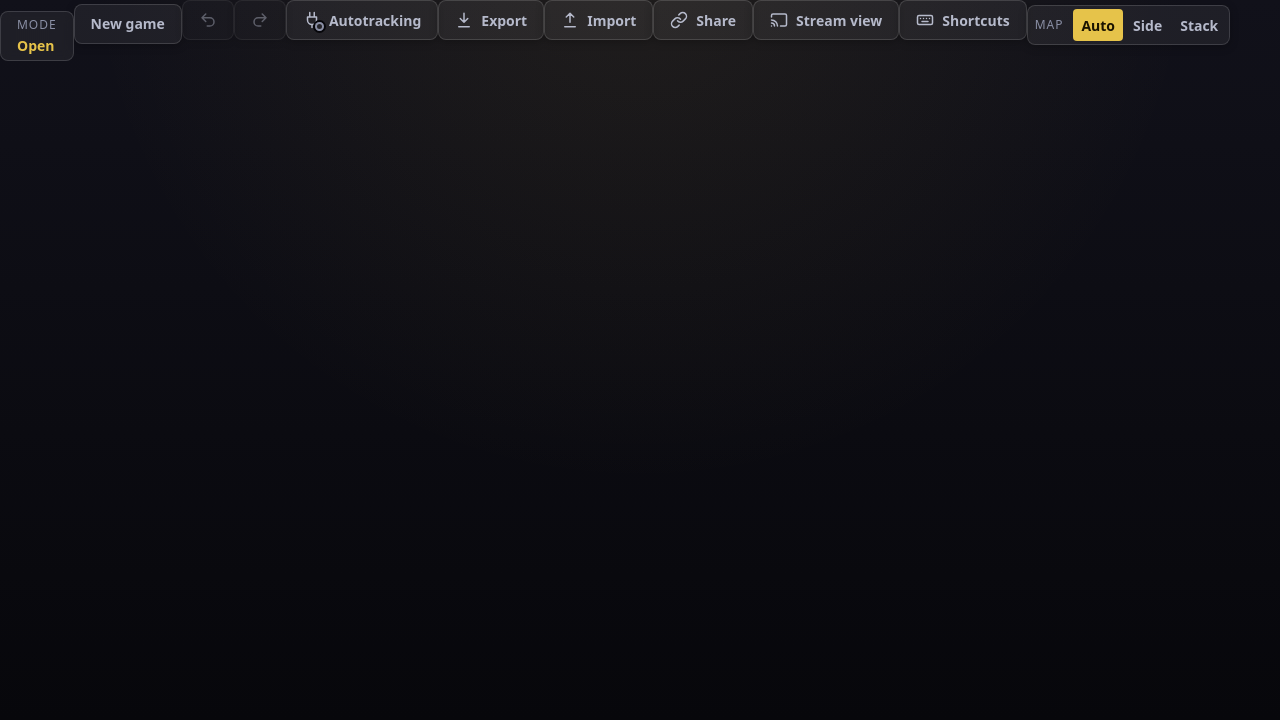
Test case: TrackerControls › does not reset when cancelling
The image size is (1280, 720).
What coordinates should you click on to do the following:
click the button "New game"
I would click on:
 (128, 24)
Its box is [74,4,182,44].
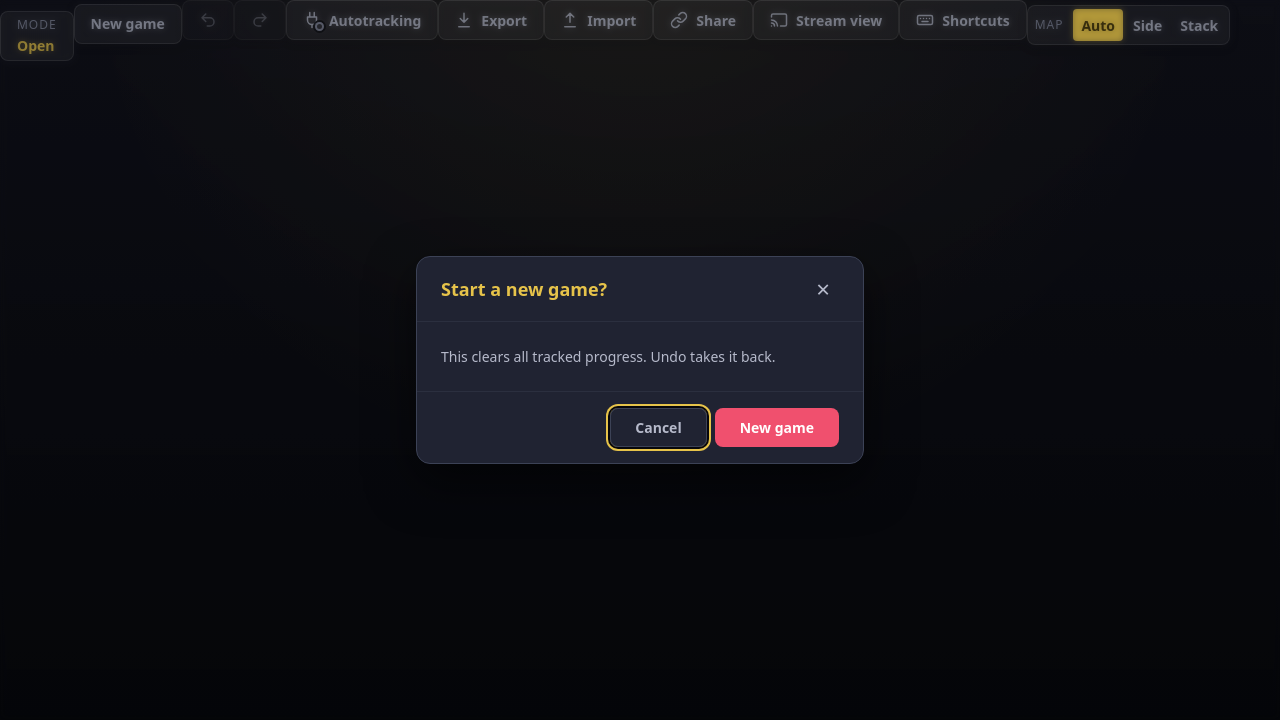
What coordinates should you click on to do the following:
click the button "Cancel"
I would click on:
 (658, 428)
Its box is [610,408,707,447].
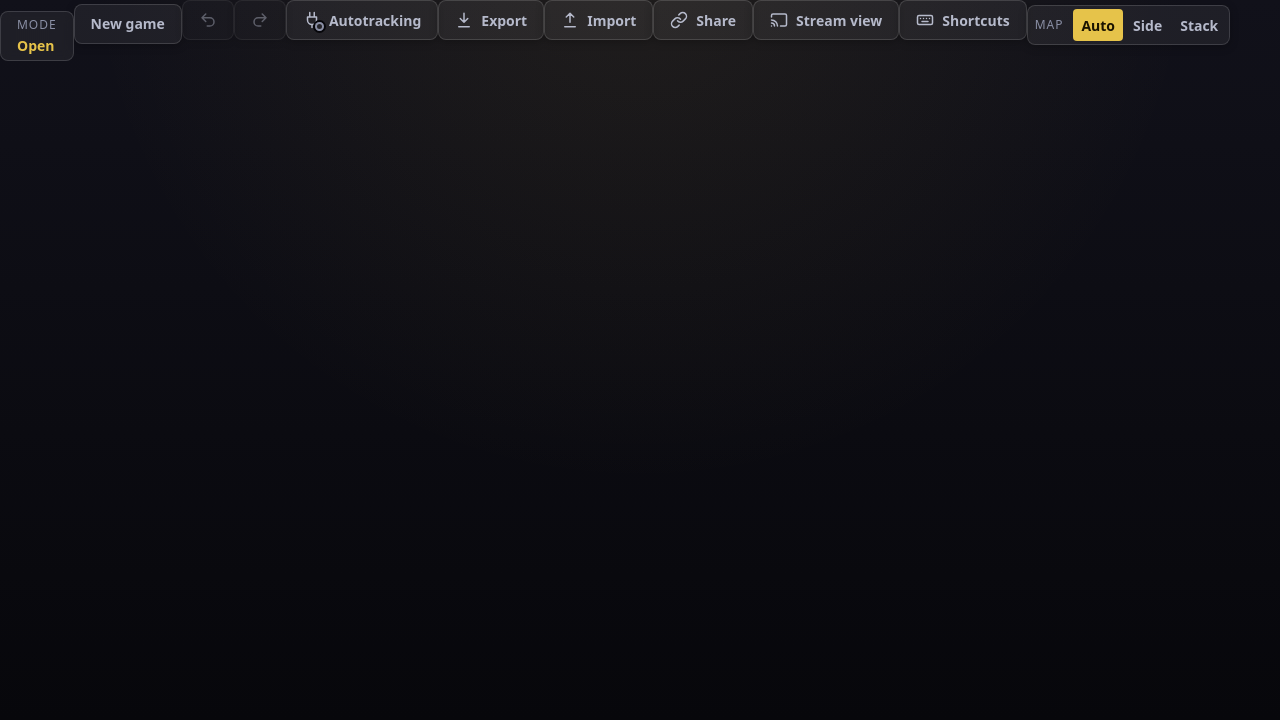
Result: the dialog is gone
